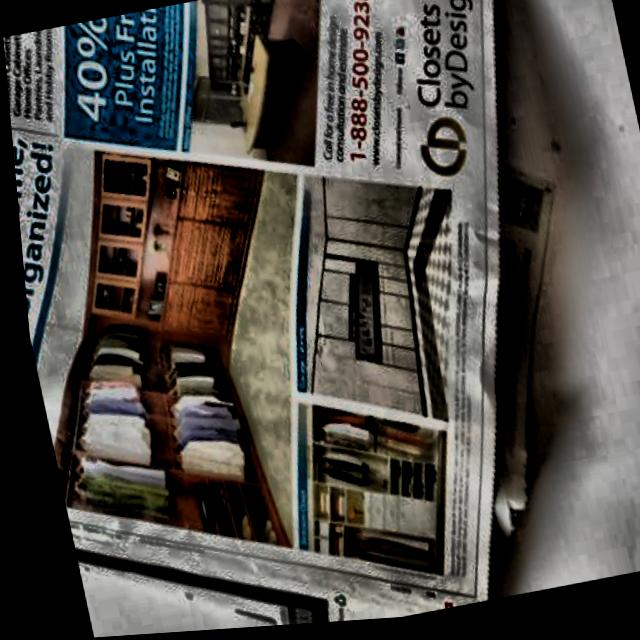Paper: (0, 0, 627, 640)
